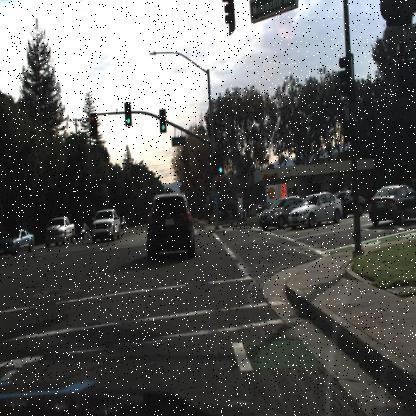car: (143, 187, 197, 262), (368, 184, 416, 229), (287, 191, 344, 227), (86, 206, 122, 246), (331, 189, 367, 223), (1, 224, 36, 257), (42, 215, 74, 251), (256, 198, 293, 228), (72, 219, 90, 242), (71, 221, 90, 239)
trafficLight-Green: (123, 102, 133, 129), (158, 108, 168, 134), (216, 154, 224, 180), (124, 100, 131, 126), (216, 161, 224, 180), (160, 109, 166, 132)
trafficLight-RedLeft: (89, 111, 99, 139)
